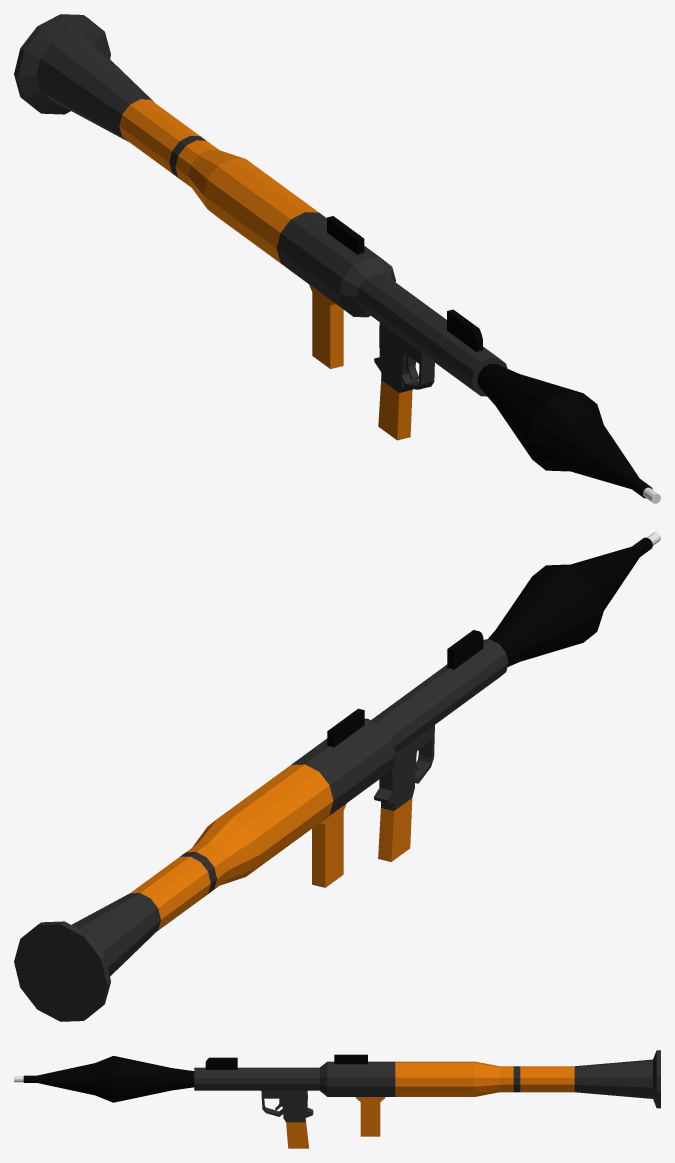
The model's file is rpg.fbx.
3 views of the same model, one above another, from view 1: azimuth 30°, elevation 25°; view 2: azimuth 150°, elevation 25°; view 3: azimuth 270°, elevation 25° (orthographic). The views are drawn at different scales.
Visible parts, largest first — view 1: Weapon_RPG; view 2: Weapon_RPG; view 3: Weapon_RPG.
Boxes of the visible parts, box(x1,y1,x2,y2) form: Weapon_RPG: box(14, 14, 660, 503); Weapon_RPG: box(14, 532, 660, 1021); Weapon_RPG: box(14, 1050, 660, 1148).
Bounding box in the file's own units: 8.51 × 15.16 × 94.33.
